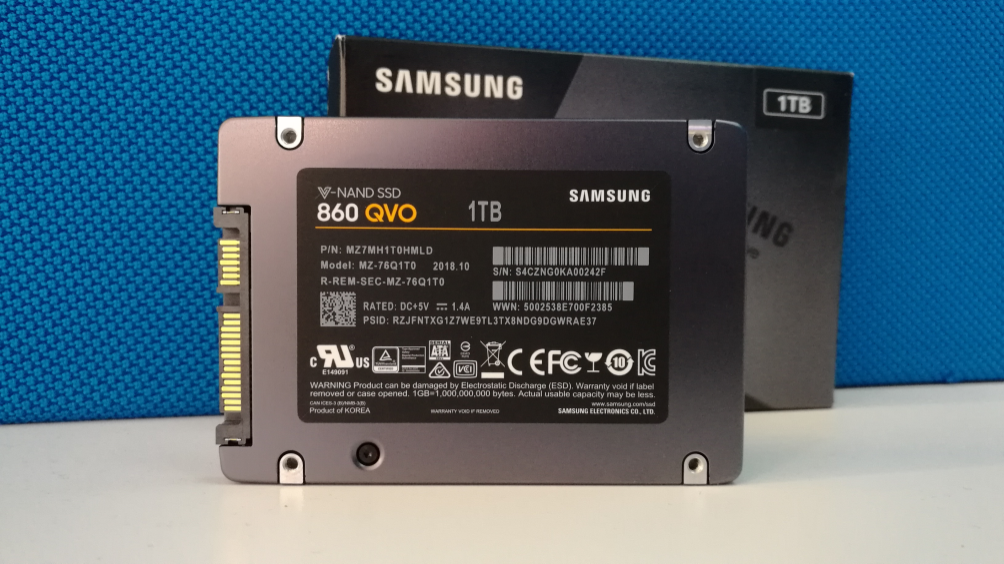samsung-hdd-240gb: (209, 113, 775, 480)
